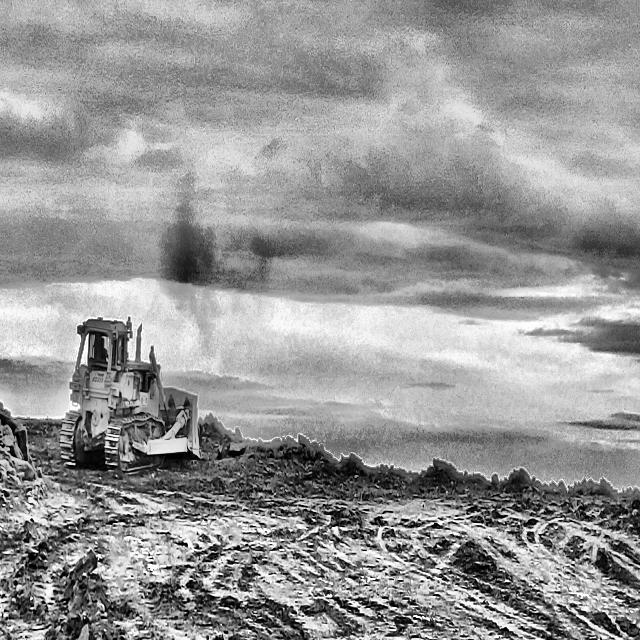buldozerpayloadergrader: (60, 320, 200, 467)
